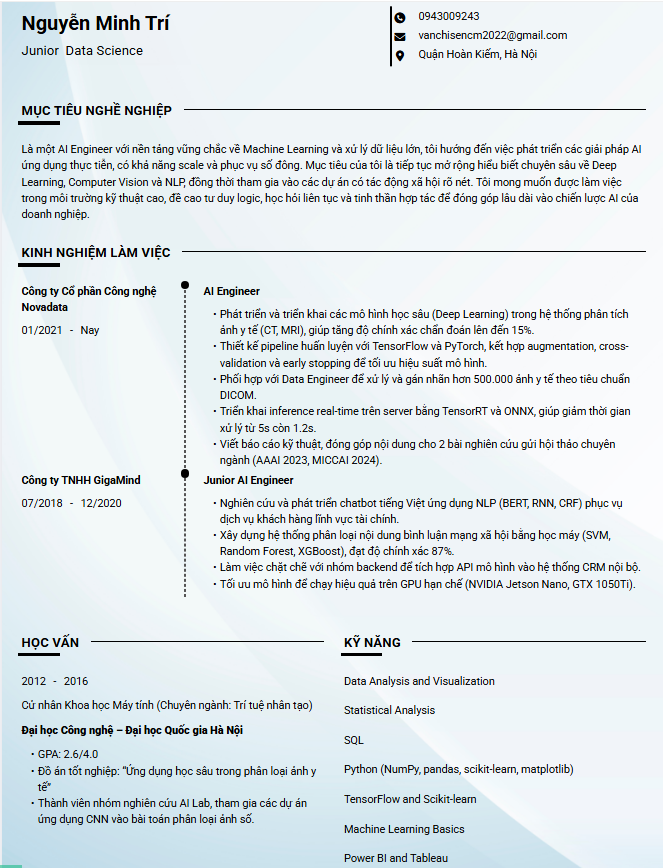address: (393, 45, 543, 64)
gpa: (25, 743, 104, 763)
level: (15, 41, 60, 60)
position: (62, 37, 151, 68)
skill: (333, 629, 651, 866)
